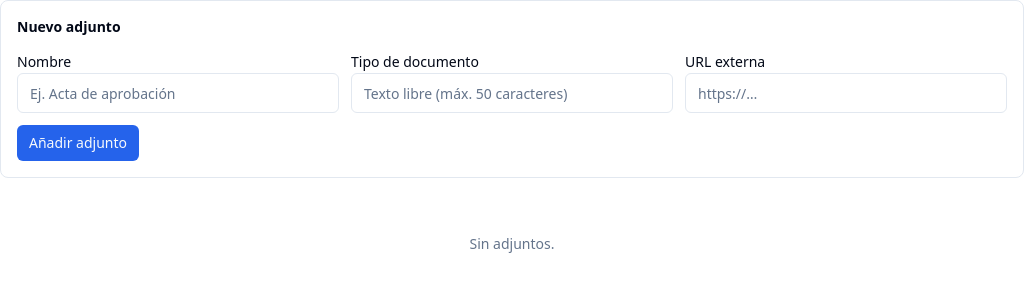
Test case: AttachmentsManager — create › surfaces a field error for an empty doc_type and does not POST
This screenshot has width=1024, height=294.
Expected: the text "Sin adjuntos." is shown, top-left (470, 234), bottom-right (554, 253)
Step 1. Type "Acta" into the field labelled "Nombre" → (178, 93), box top-left (17, 73), bottom-right (339, 113)
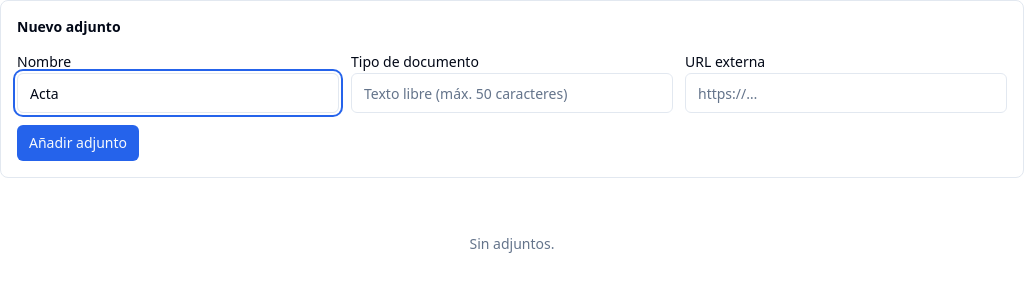
Step 2. Type "https://example.com/a.pdf" into the field labelled "URL externa" → (846, 93), box top-left (685, 73), bottom-right (1007, 113)
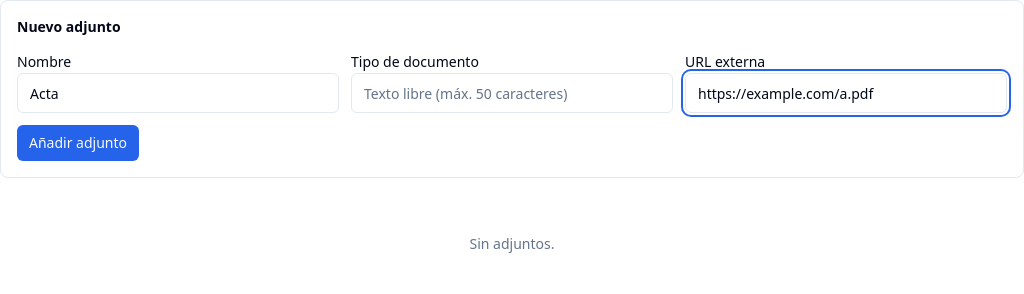
Step 3. Click the button "Añadir adjunto" → (78, 143), box top-left (17, 125), bottom-right (139, 161)
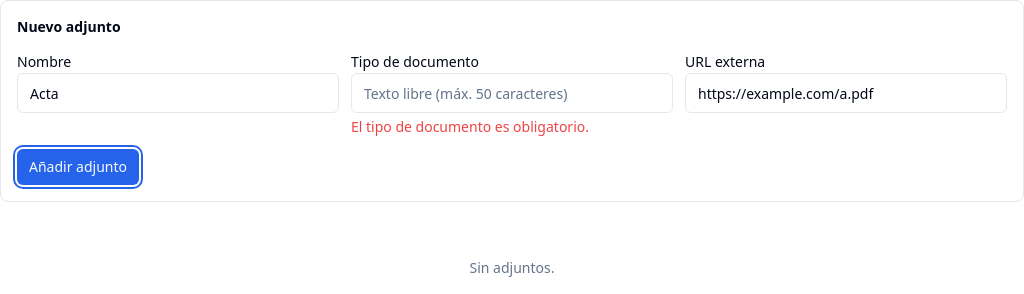
Result: the text "El tipo de documento es obligatorio." is shown at top-left (351, 117), bottom-right (589, 136)
